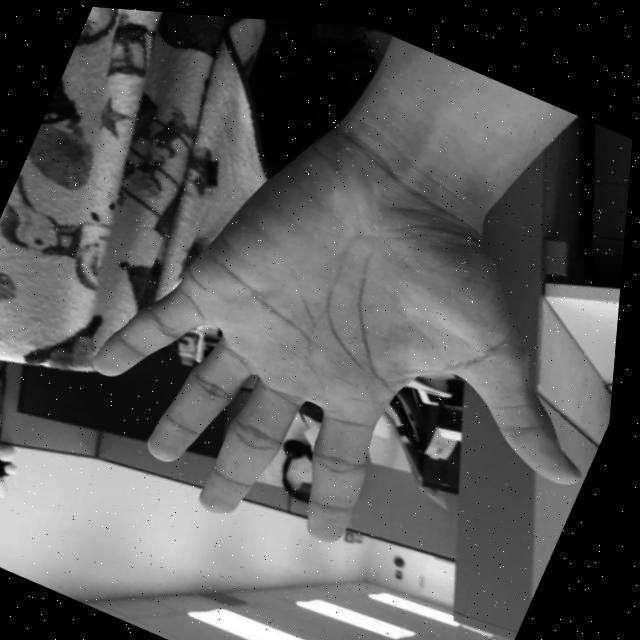no-gloves: (46, 54, 636, 637)
